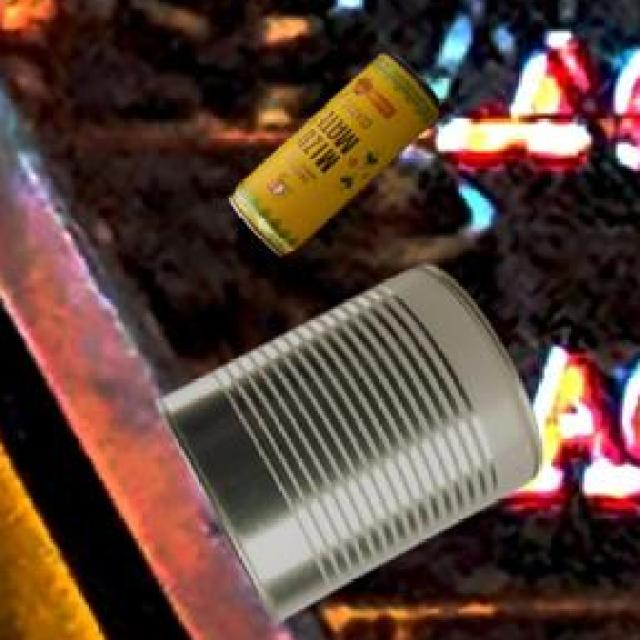logam: (159, 268, 546, 626), (232, 57, 443, 259)
